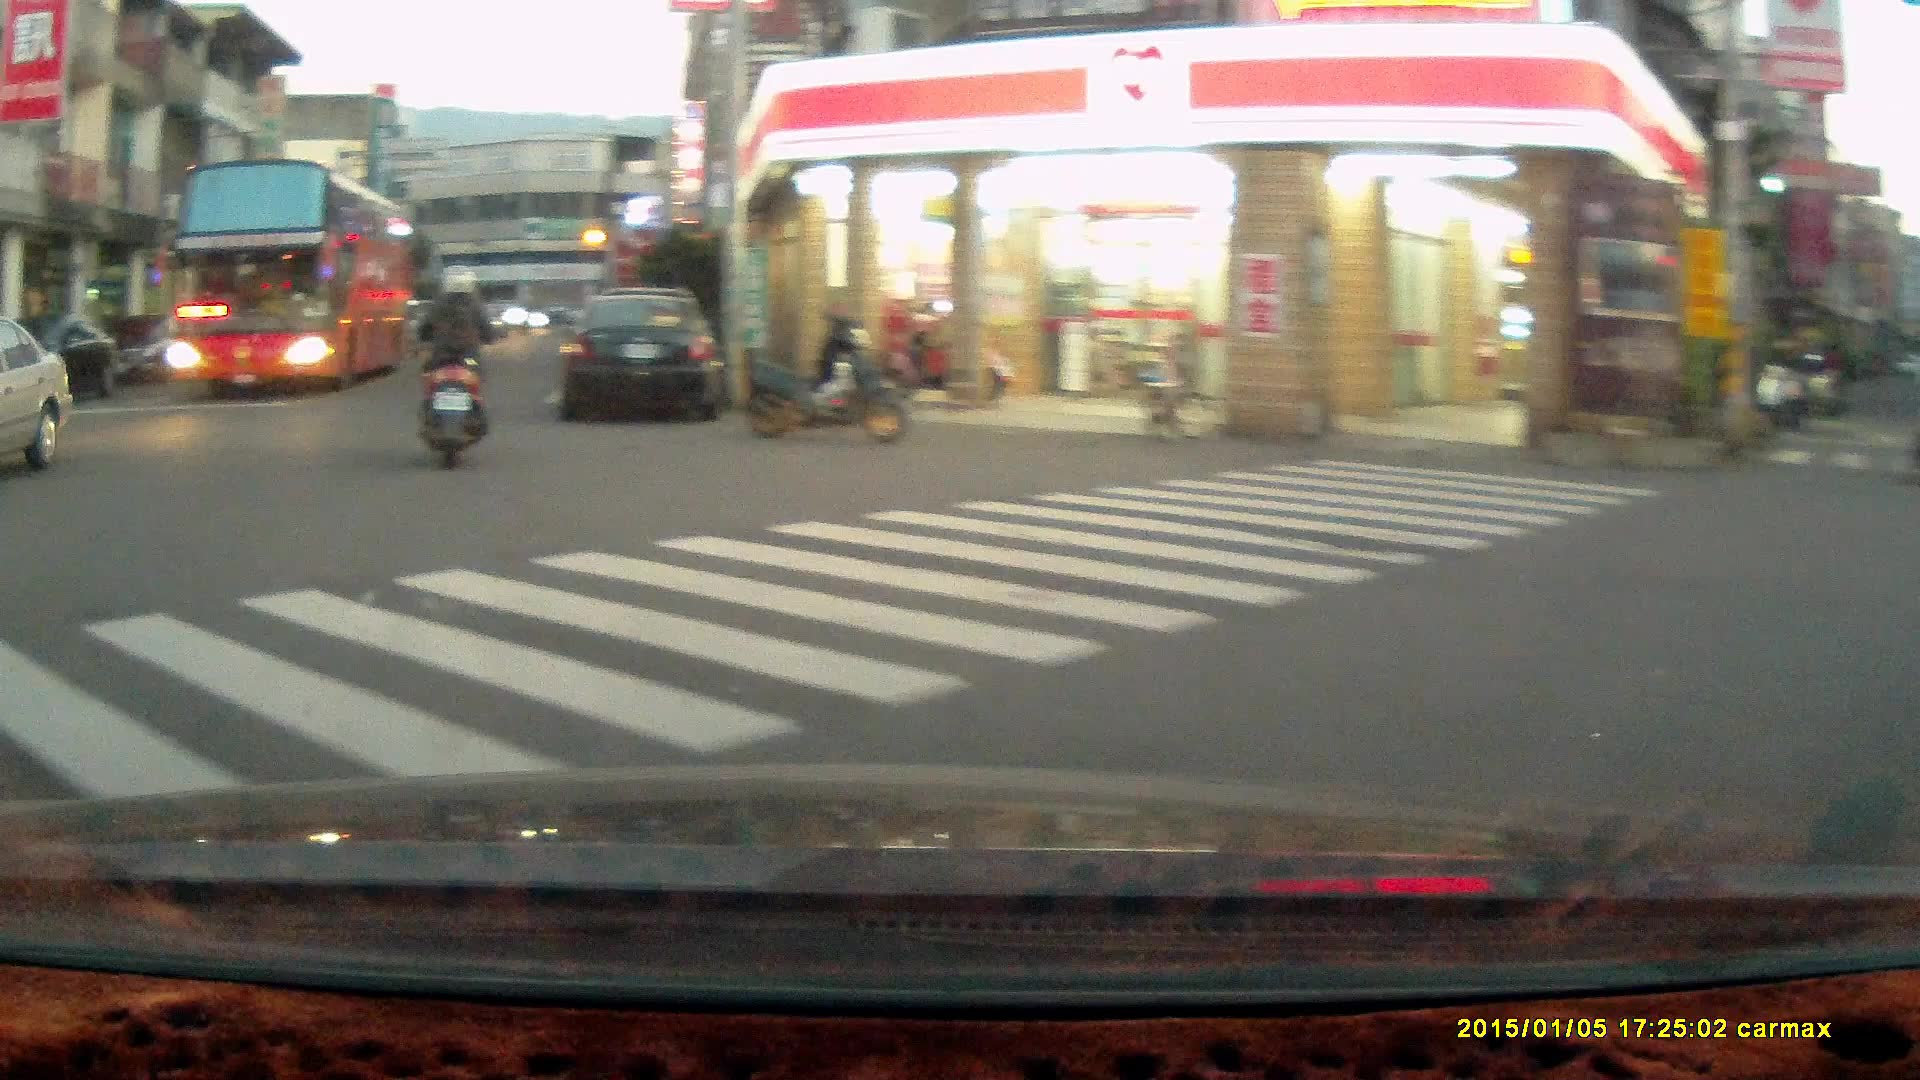rider: (409, 261, 502, 469)
vehicle: (170, 156, 429, 397), (558, 289, 731, 423), (6, 313, 126, 408)
